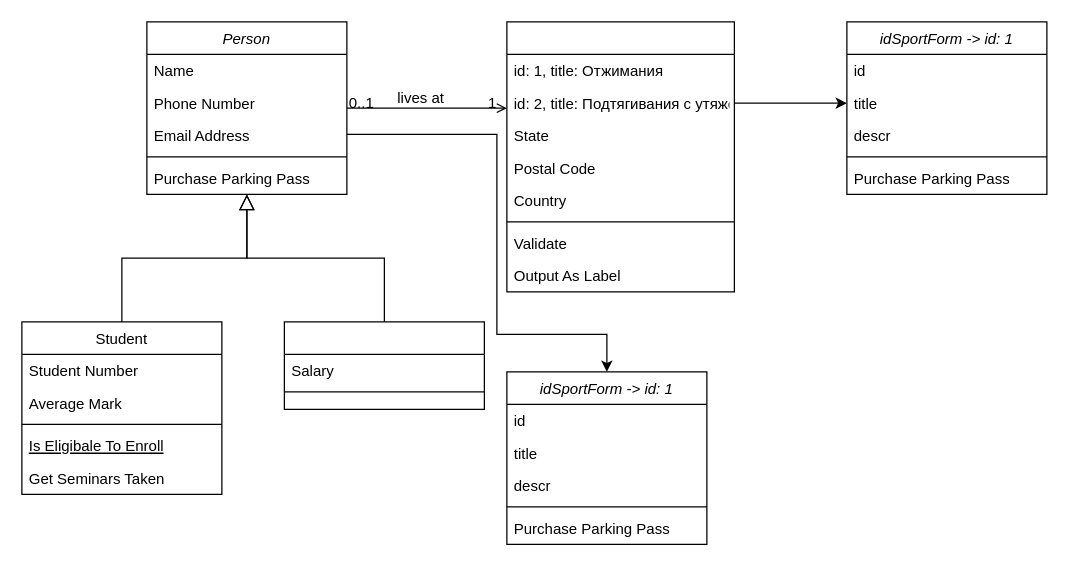
Image size: 1069x570. Some labels were removed from this diagram. Each missing label, with the box of its shape:
idSportForms: (506, 21, 734, 292)
Professor: (283, 321, 484, 409)
